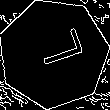L_W: (24, 31, 83, 77)
